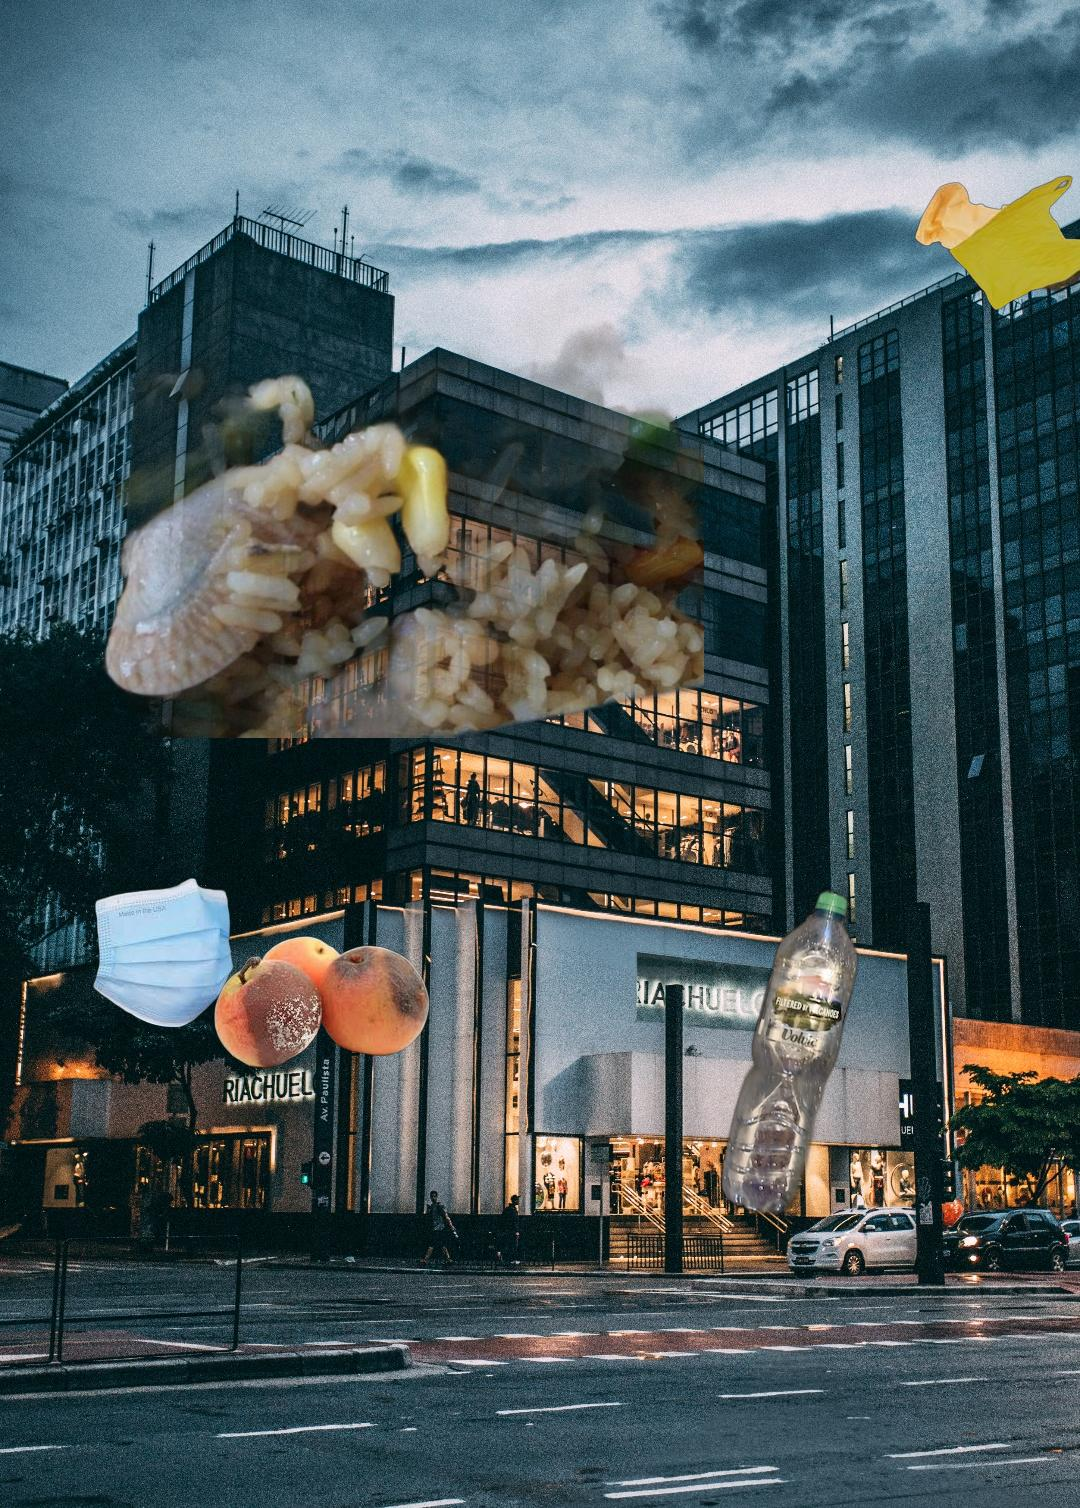biological: (44, 78, 704, 738), (212, 934, 432, 1071)
plastic-bag: (914, 173, 1080, 313)
plastic-bottles: (718, 884, 863, 1224)
trash: (90, 876, 236, 1030)
